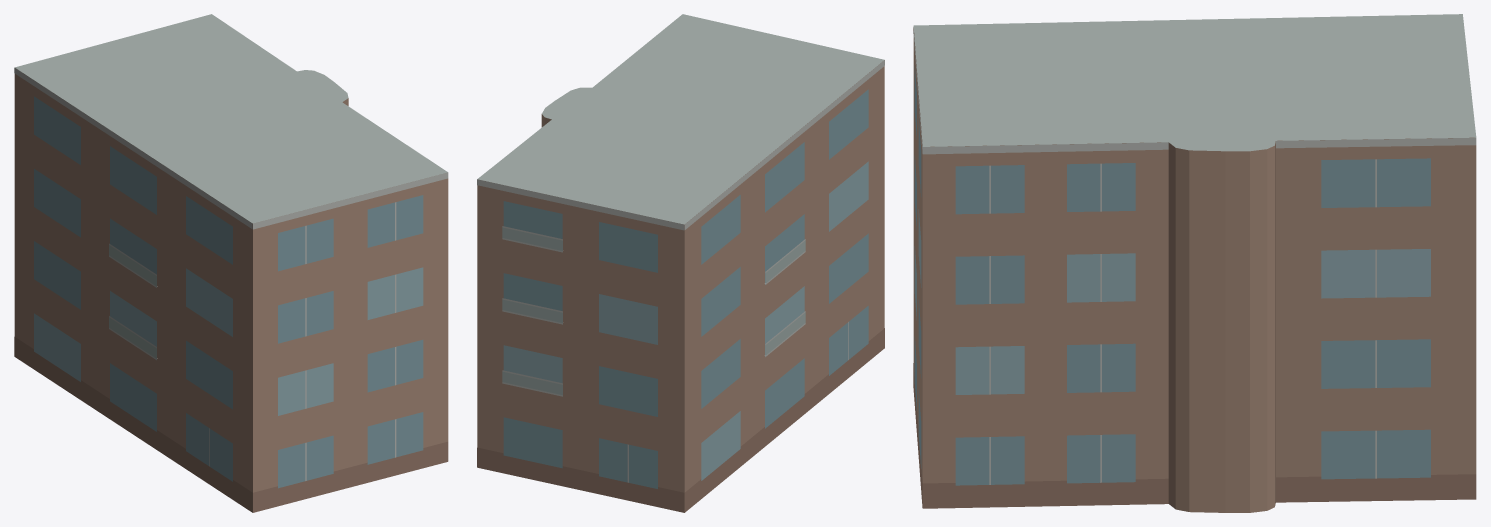
Rendered from survey-upis-32611059.glb.
3 renders of one model, left to right at view 1: azimuth 30°, elevation 25°; view 2: azimuth 150°, elevation 25°; view 3: azimuth 270°, elevation 25°, orthographic. The views are drawn at different scales.
Visible parts, largest first — view 1: survey-upis-32611059.tmp; view 2: survey-upis-32611059.tmp; view 3: survey-upis-32611059.tmp.
Boxes of the visible parts, <box> form: survey-upis-32611059.tmp: <box>14,14,448,512</box>; survey-upis-32611059.tmp: <box>477,14,884,512</box>; survey-upis-32611059.tmp: <box>913,14,1476,512</box>.
Size of the model in its own units: 9.6 by 11.8 by 16.65.
